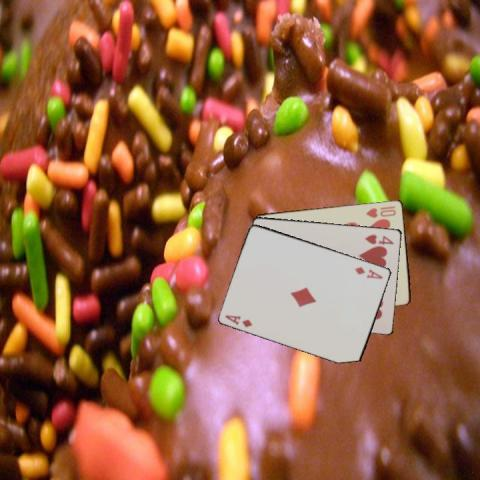10h: (363, 202, 397, 218)
4h: (362, 232, 395, 246)
Ad: (352, 263, 385, 280), (223, 312, 254, 329)
